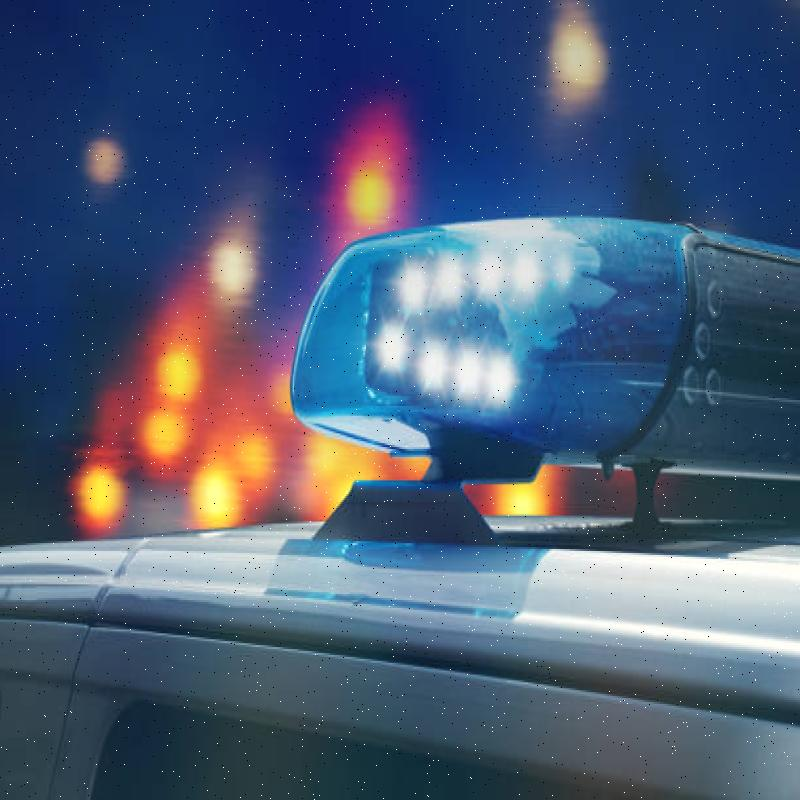AmbulanceSiren: (265, 214, 800, 584)
